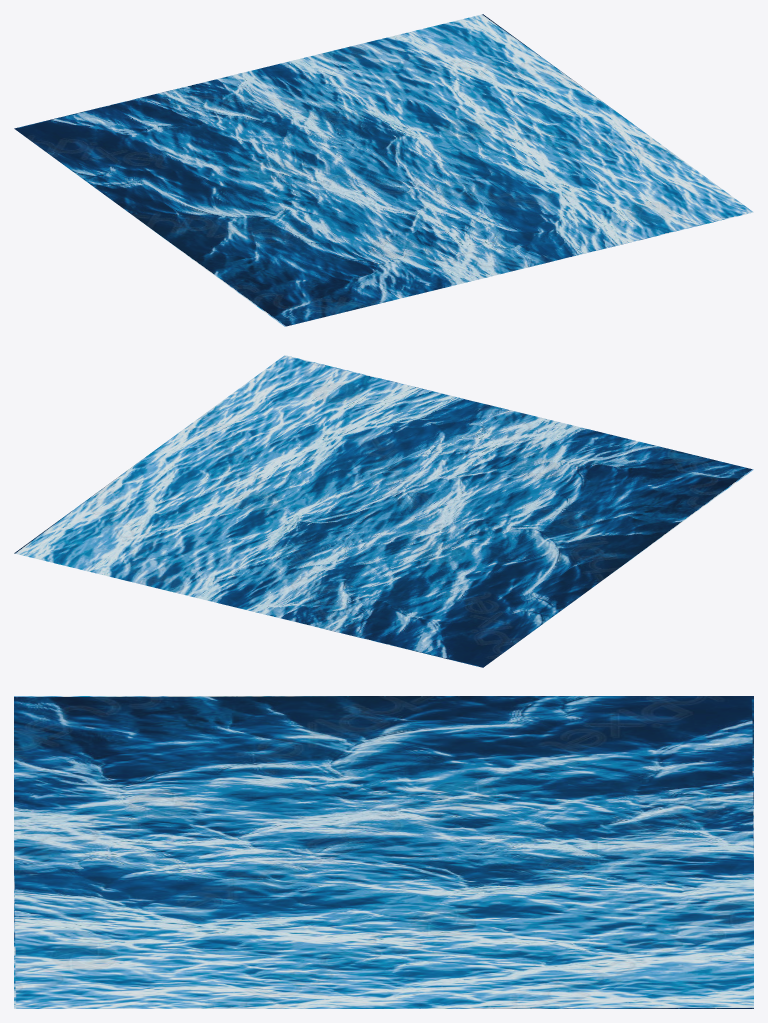
The model's file is mar.obj.
The picture shows the model from 3 angles, top to bottom: view 1: azimuth 30°, elevation 25°; view 2: azimuth 150°, elevation 25°; view 3: azimuth 270°, elevation 25°; orthographic projection. The views are drawn at different scales.
Visible parts, largest first — view 1: mar_Sea_pPlane1; view 2: mar_Sea_pPlane1; view 3: mar_Sea_pPlane1.
Boxes of the visible parts, x1,y1,x2,y2 form: mar_Sea_pPlane1: [14, 14, 753, 326]; mar_Sea_pPlane1: [14, 355, 753, 667]; mar_Sea_pPlane1: [14, 696, 753, 1008].
Size of the model in its own units: 512 by 0 by 512.
Materials: 1 (1 with a texture image).
